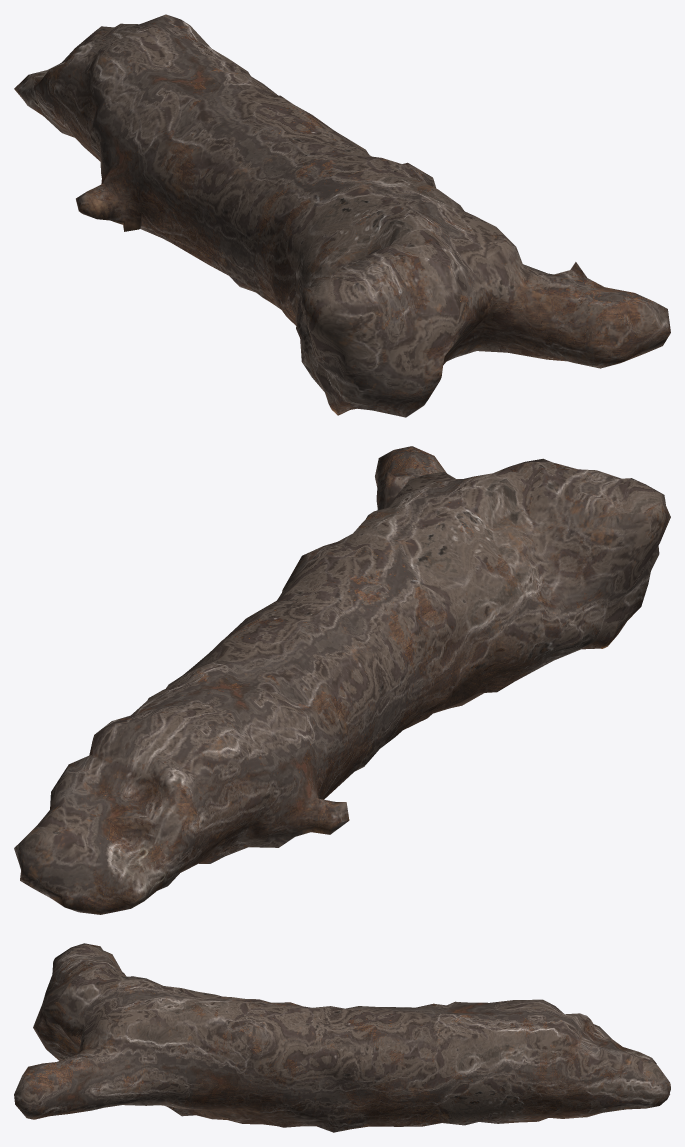
Rendered from SM_Sticks_Medium_06.fbx.
The picture shows the model from 3 angles, top to bottom: view 1: azimuth 30°, elevation 25°; view 2: azimuth 150°, elevation 25°; view 3: azimuth 270°, elevation 25°; orthographic projection. The views are drawn at different scales.
Visible parts, largest first — view 1: SM_Sticks_Medium_06; view 2: SM_Sticks_Medium_06; view 3: SM_Sticks_Medium_06.
Part boxes in pixels (box(x1,y1,x2,y2)): SM_Sticks_Medium_06: box(14, 14, 670, 417); SM_Sticks_Medium_06: box(14, 446, 670, 914); SM_Sticks_Medium_06: box(14, 943, 670, 1132).
Bounding box in the file's own units: 18.61 × 46.82 × 10.7.
Materials: 1 (1 with a texture image).
